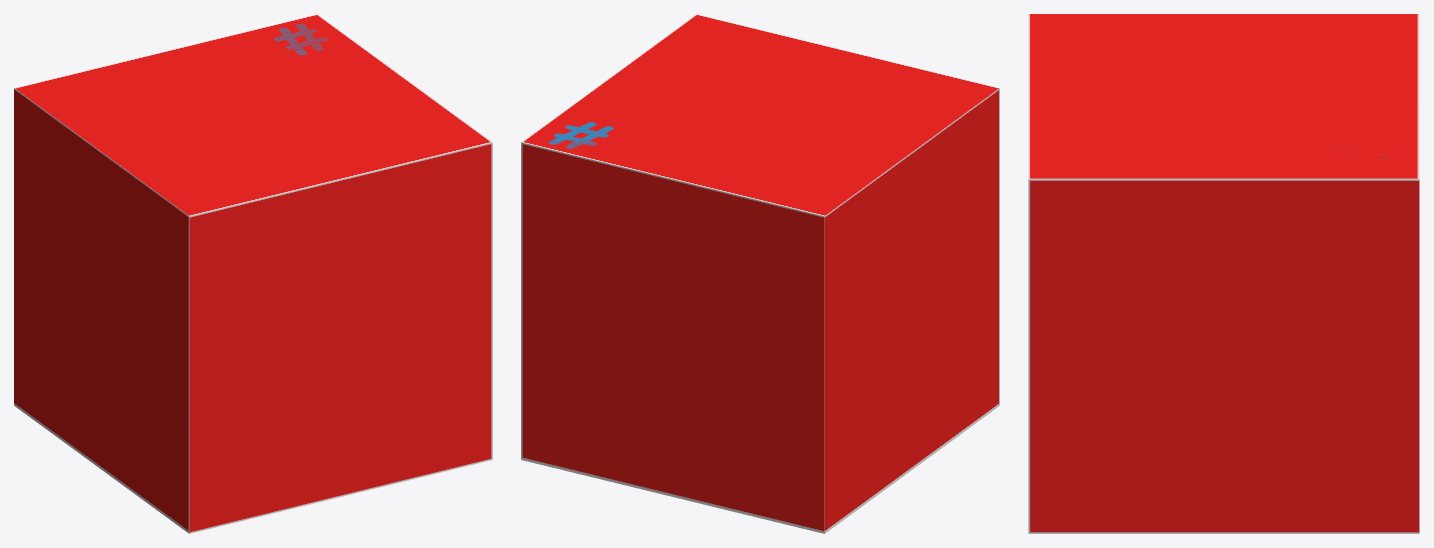
File: SState_Highlight_Hashtag.dae
3 views of the same model, side by side, from view 1: azimuth 30°, elevation 25°; view 2: azimuth 150°, elevation 25°; view 3: azimuth 270°, elevation 25° (orthographic). The views are drawn at different scales.
Parts seen in each view (by area): view 1: Z_ClassFrame, A_Hash; view 2: Z_ClassFrame, A_Hash; view 3: Z_ClassFrame.
Part boxes in pixels (bbox=[...]): Z_ClassFrame: bbox=[14, 14, 492, 533]; A_Hash: bbox=[274, 23, 328, 55]; Z_ClassFrame: bbox=[521, 14, 999, 533]; A_Hash: bbox=[548, 122, 613, 148]; Z_ClassFrame: bbox=[1028, 14, 1419, 533].
Bounding box in the file's own units: 2 × 2 × 2.
3 materials, 3 textured.
